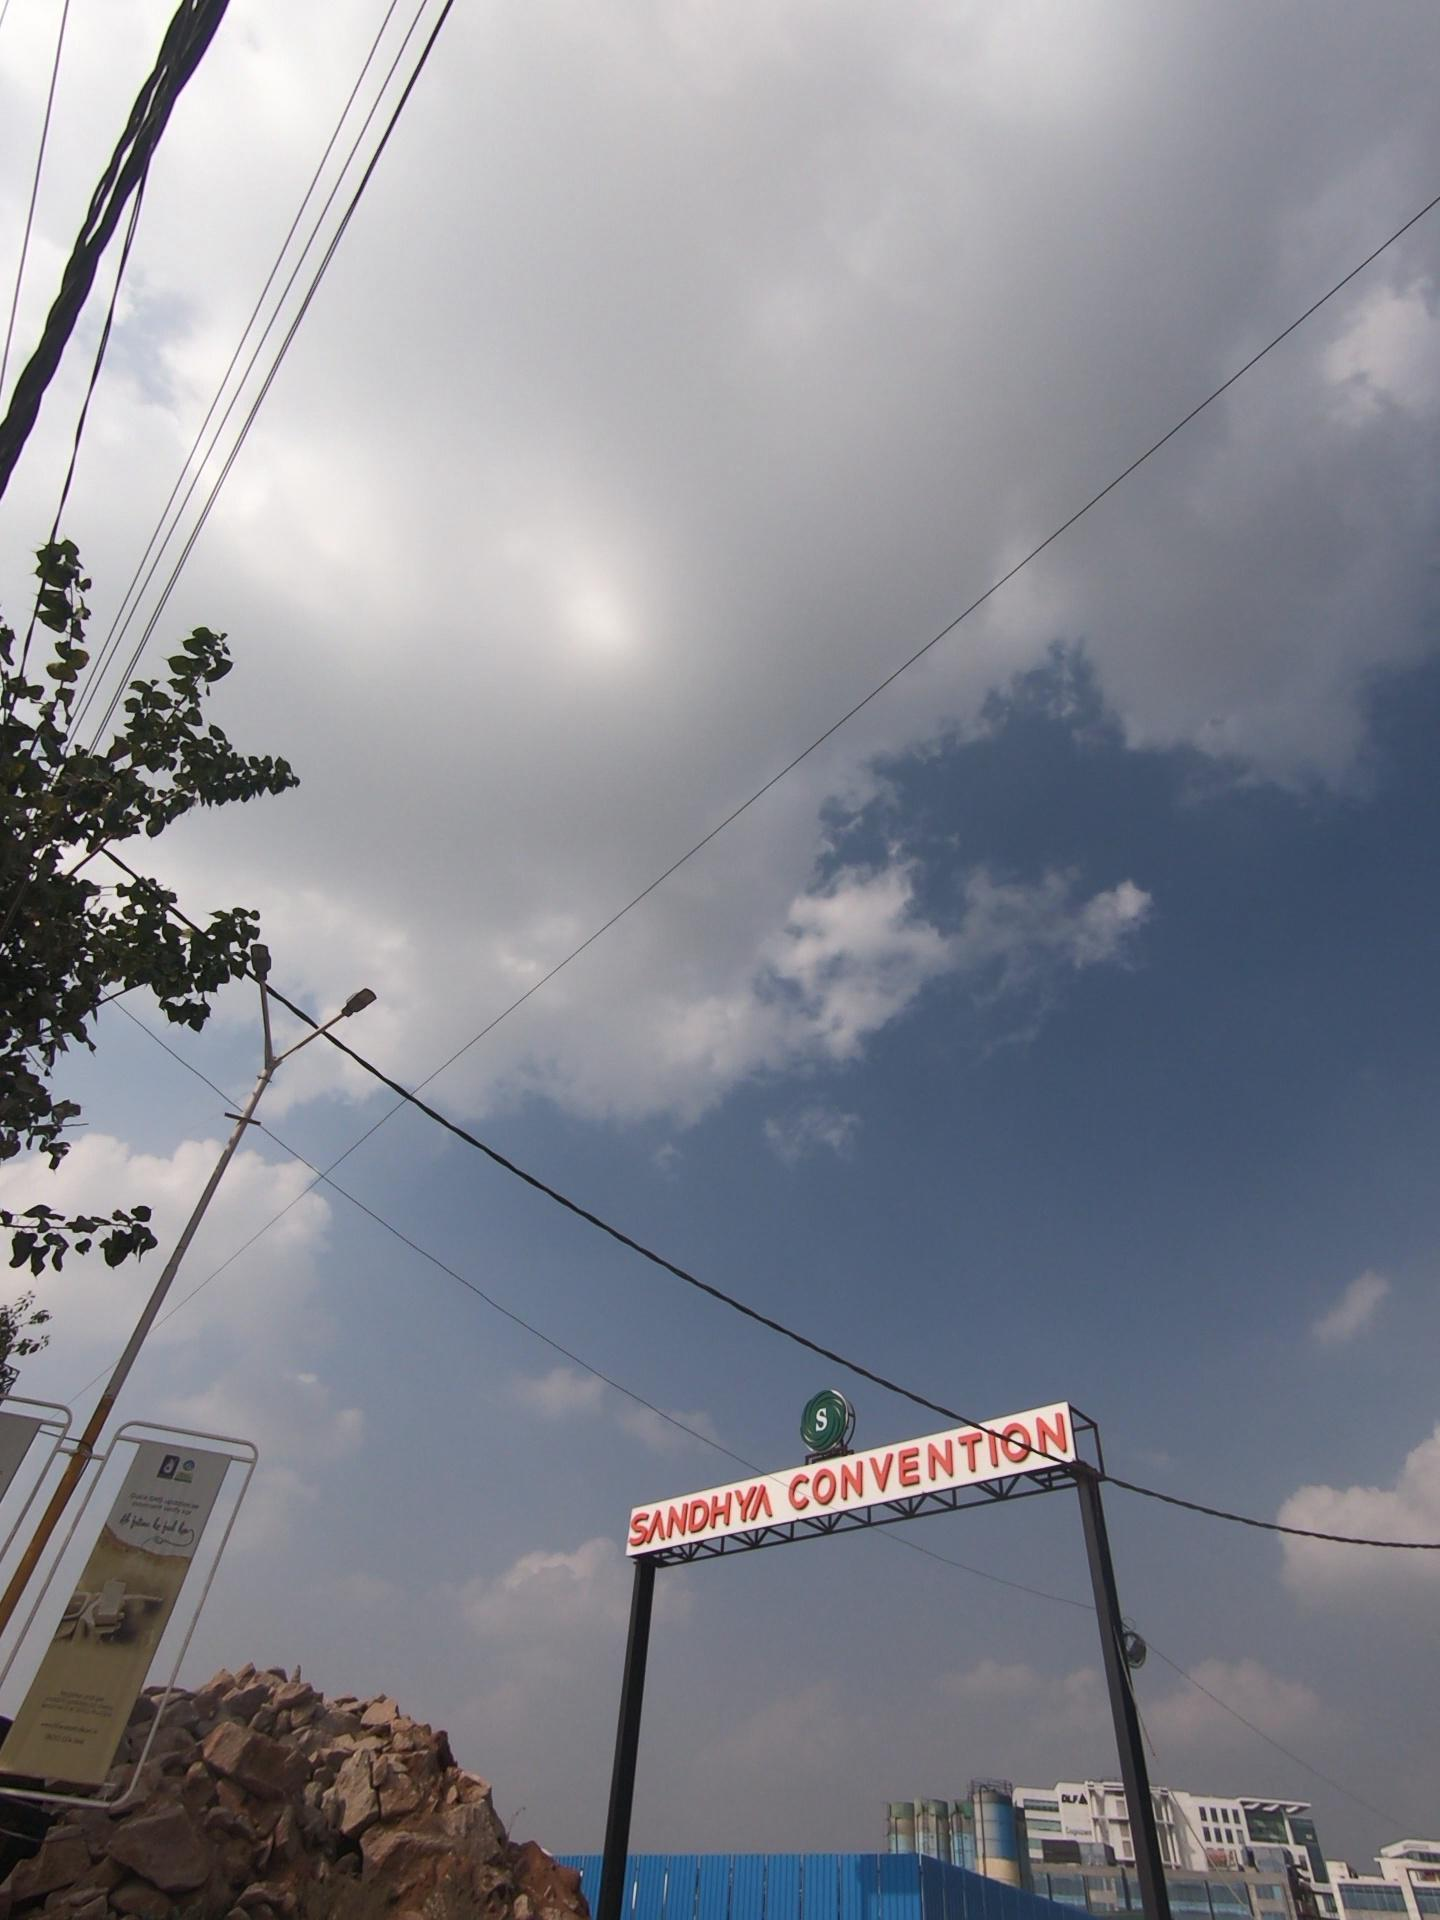off: (225, 841, 492, 1116)
